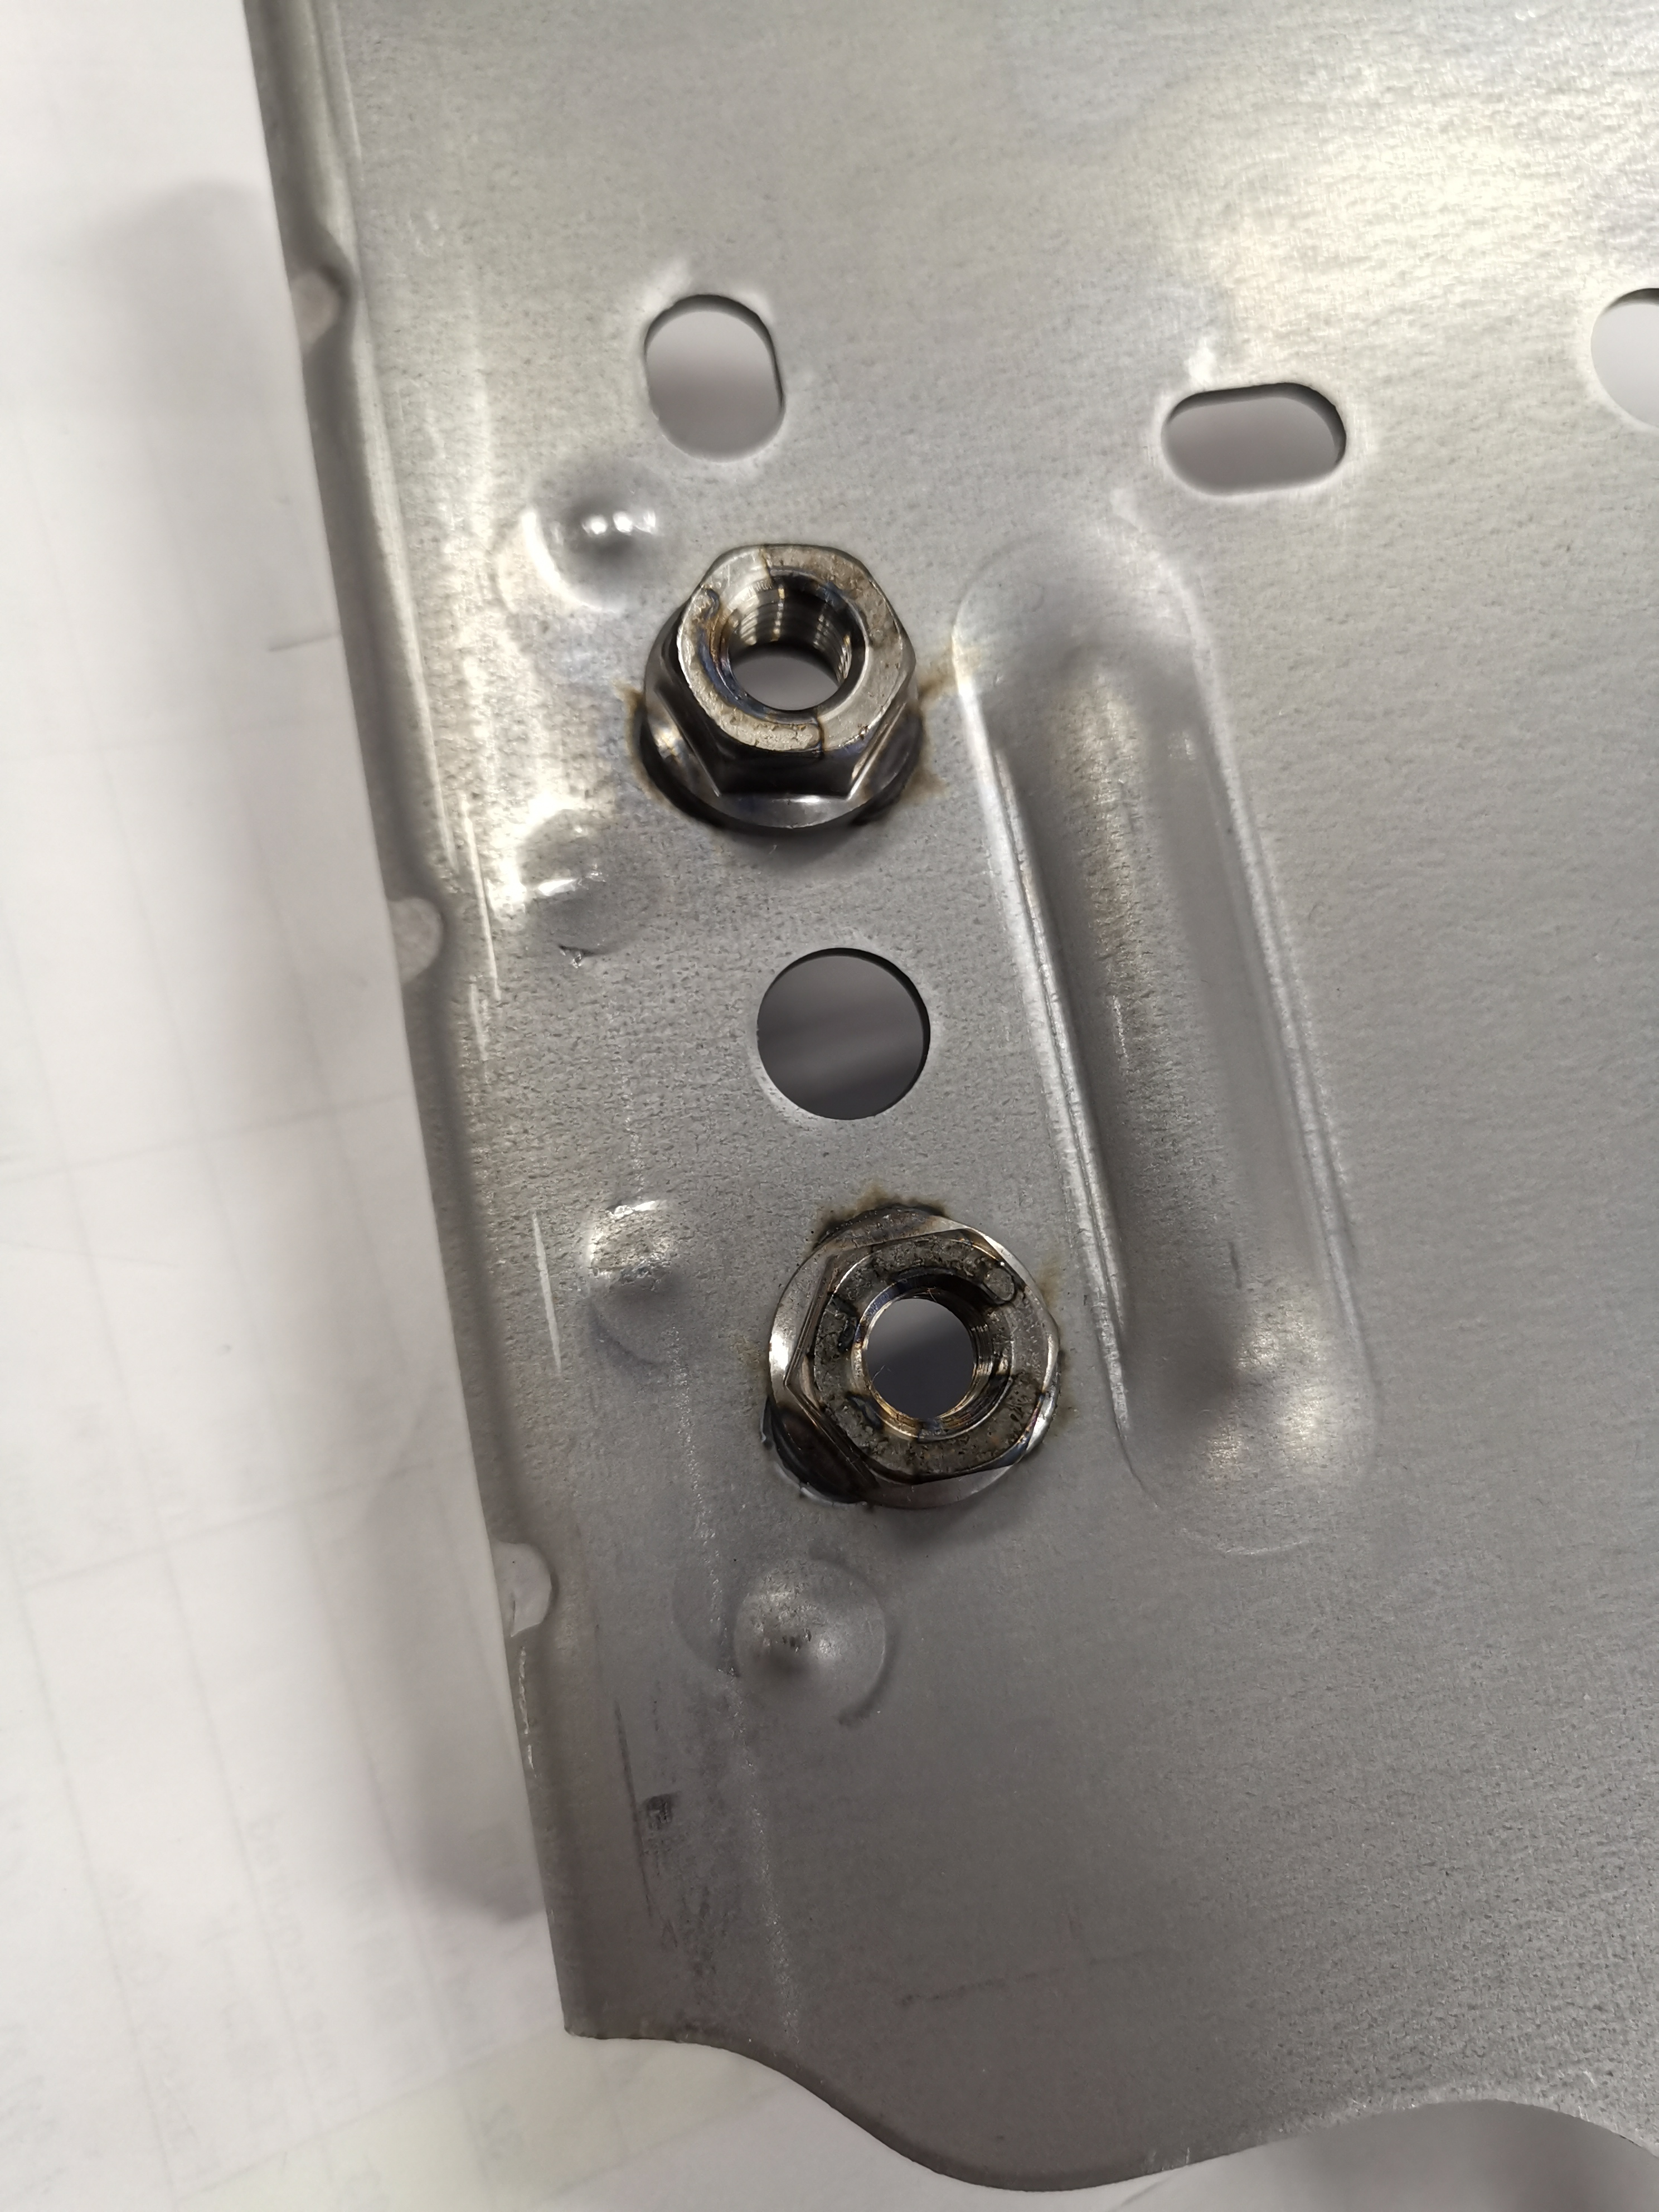dog: (758, 1191, 1070, 1521), (629, 536, 931, 848)
